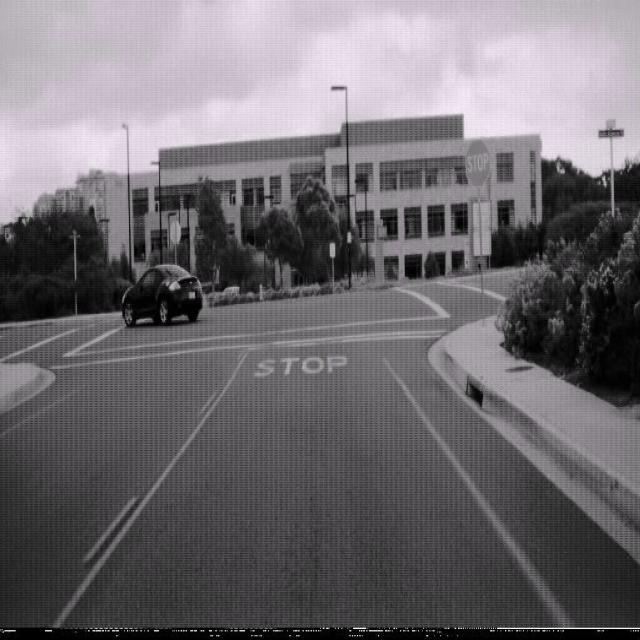stop_sign: (464, 137, 492, 189)
